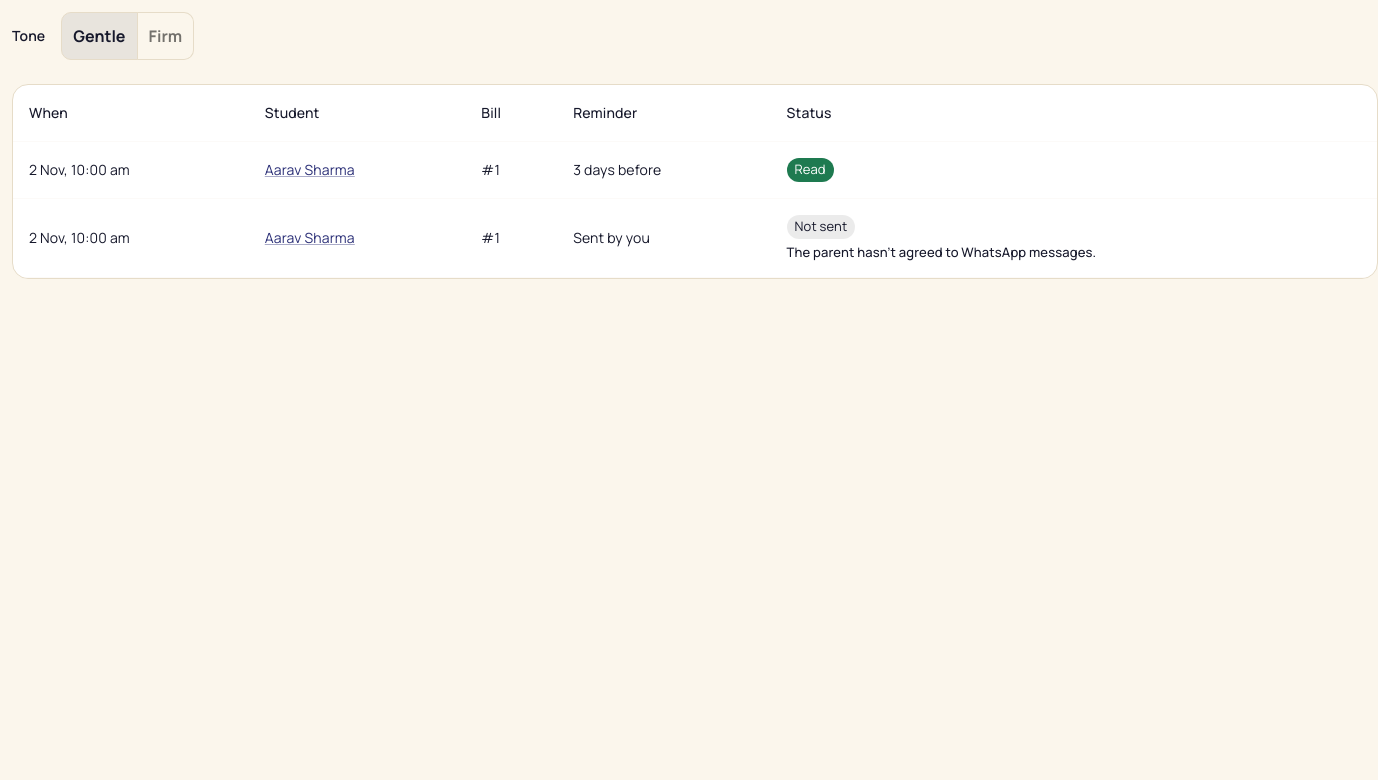
Scenario: Reminders › changes the tone of every reminder
Click the button "Firm" at x=165, y=36, box x1=136 y1=12 x2=194 y2=60
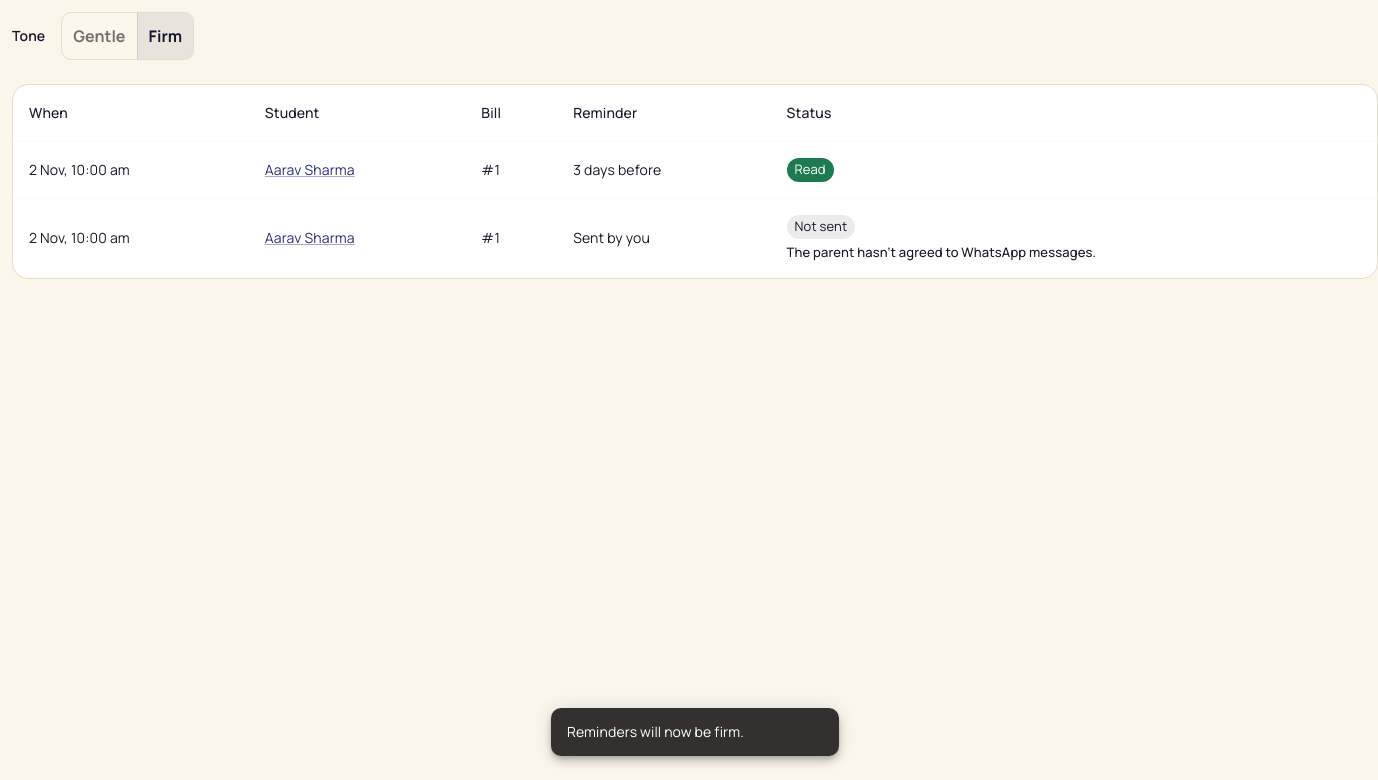
Now the text "Reminders will now be firm." is shown, box x1=567 y1=722 x2=744 y2=741
